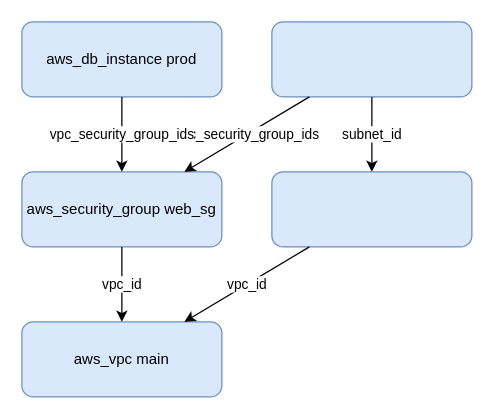
This 494x419 diagram has some shape labels left out. Here are the shapes that lost their labels. From the top down, the centre of each, then its label:
(x=371, y=59): aws_instance app
(x=371, y=209): aws_subnet web
